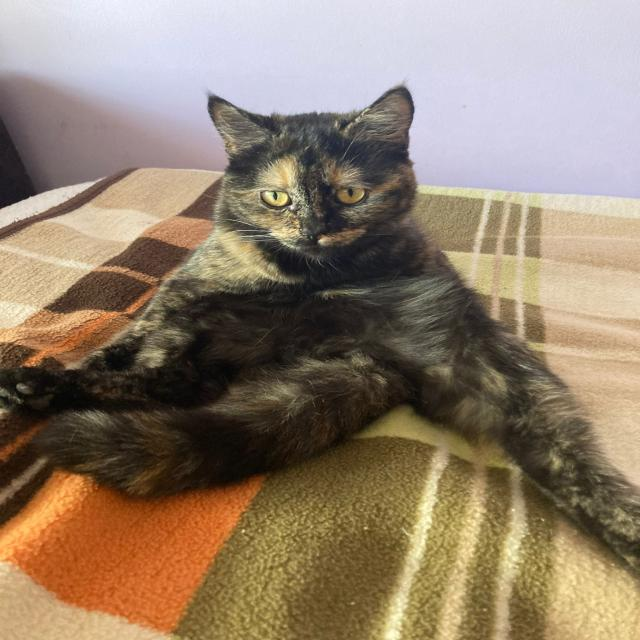authorized: (1, 79, 640, 576)
